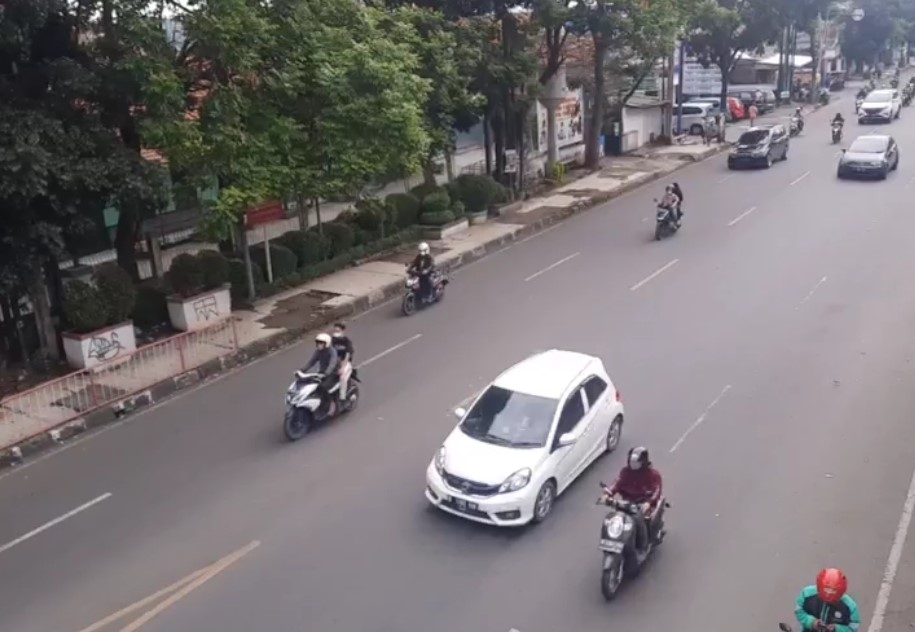motor: (596, 447, 673, 595), (282, 320, 366, 443), (399, 239, 452, 315), (649, 177, 688, 243)
